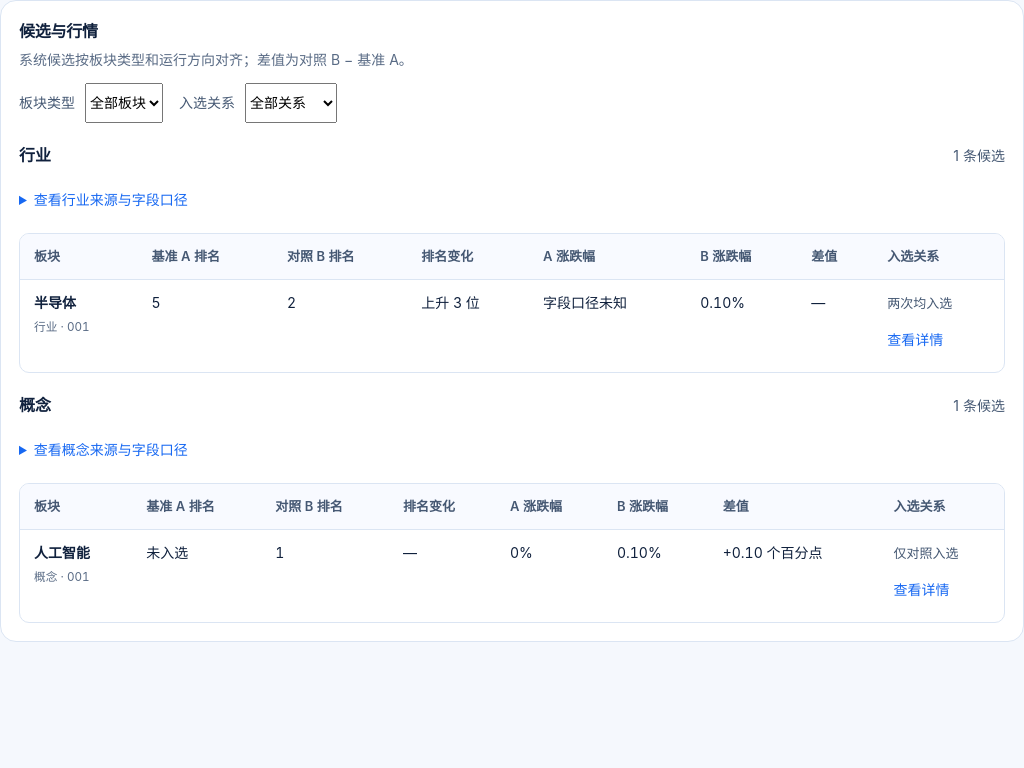
it: filters membership and exposes saved context without disguising missing observations as percentages
The width and height of the screenshot is (1024, 768).
Expected: the text "字段口径未知" is shown, [529,280,686,372]
Step 1. Click the heading "查看行业来源与字段口径" → click(111, 199), box [34,191,188,208]
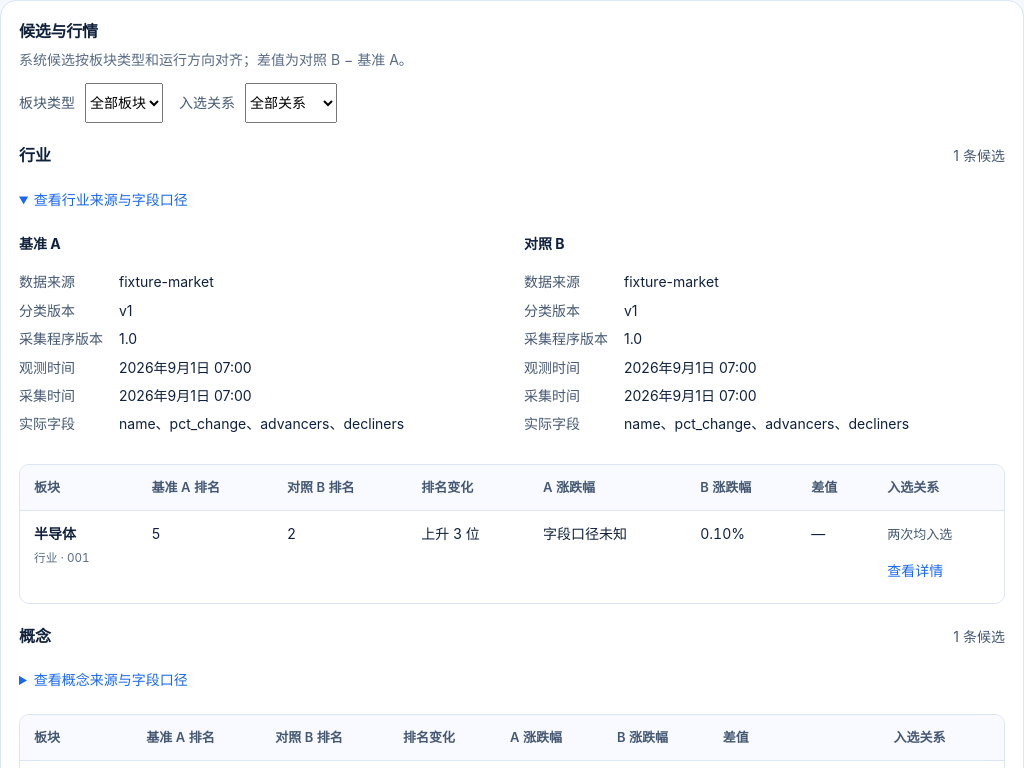
Expected: the 1st text "fixture-market" is shown, [119,273,214,290]
Step 2. Select "仅对照入选" in the dropdown labelled "入选关系" → (291, 103), box [245,83,337,123]
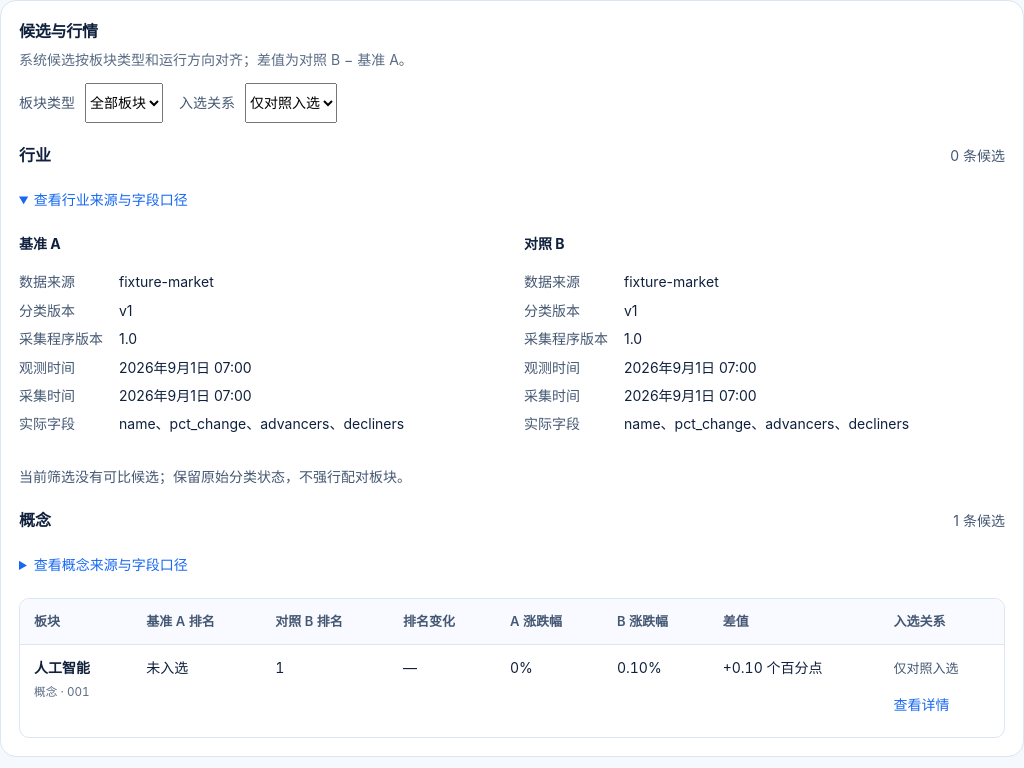
Expected: the text "人工智能" is shown, [34,659,90,676]
Expected: the text "半导体" is gone
